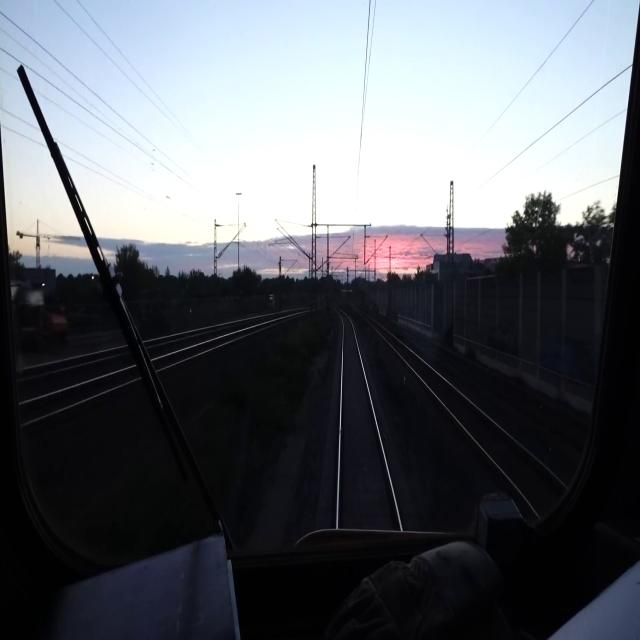rail-track: (373, 322, 560, 507), (339, 311, 398, 524), (159, 327, 260, 366)
